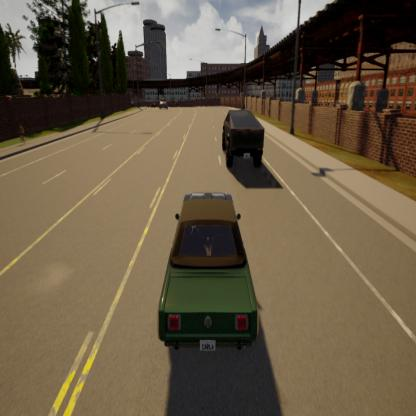Cars: (150, 181, 267, 355), (213, 107, 270, 171), (158, 96, 169, 110)
Pedestrian: (15, 120, 29, 149)
